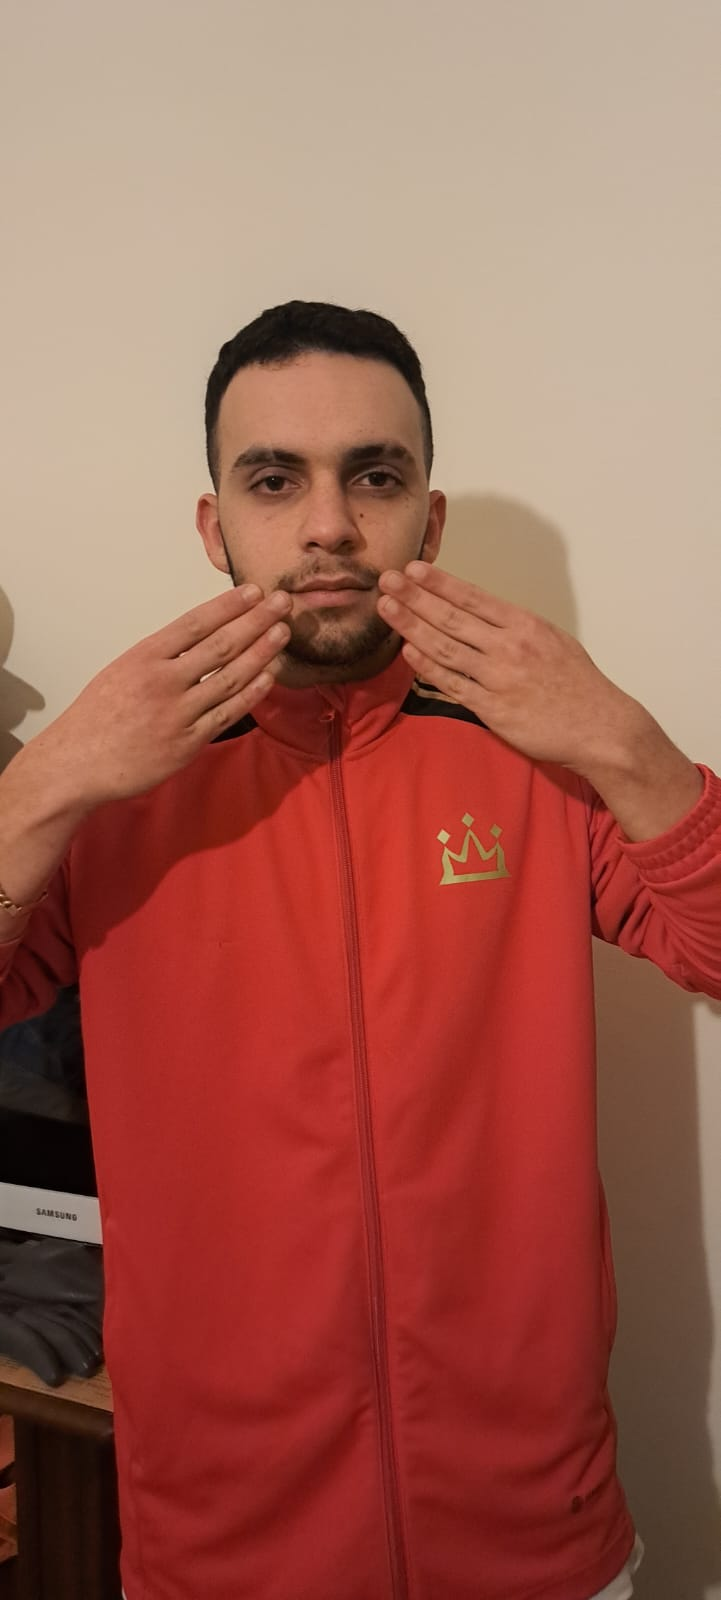grazie: (94, 551, 598, 795)
